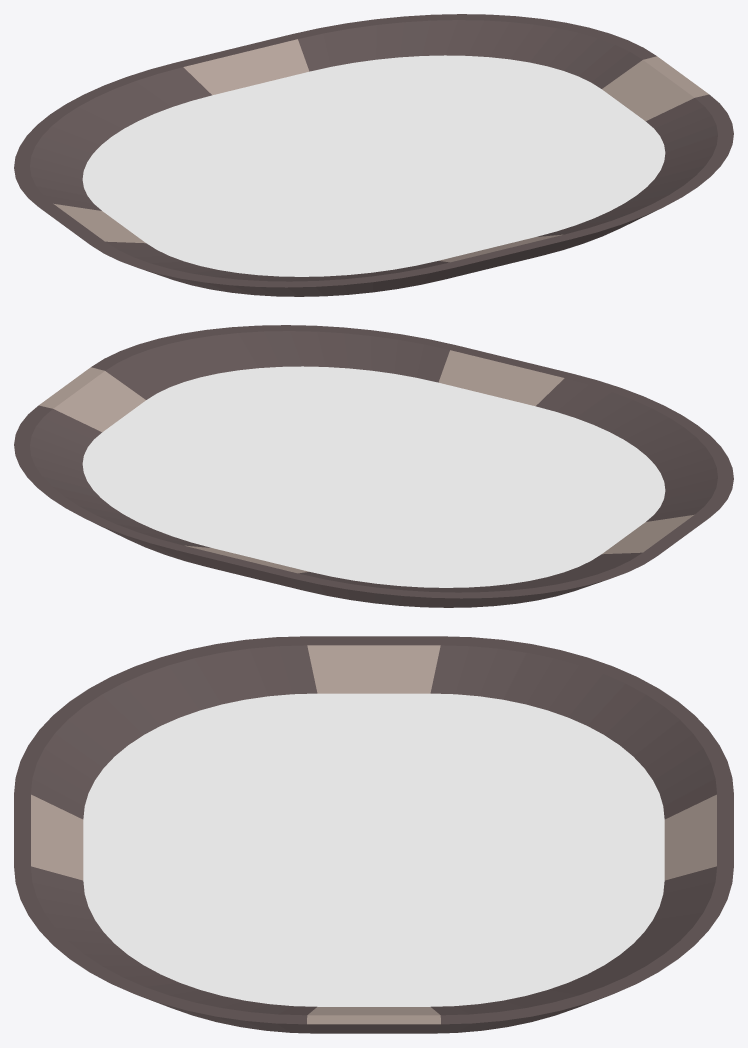
Rendered from Res01_Plate2.fbx.
The picture shows the model from 3 angles, top to bottom: view 1: azimuth 30°, elevation 25°; view 2: azimuth 150°, elevation 25°; view 3: azimuth 270°, elevation 25°; orthographic projection. The views are drawn at different scales.
Visible parts, largest first — view 1: Res01_Plate2; view 2: Res01_Plate2; view 3: Res01_Plate2.
Boxes of the visible parts, x1,y1,x2,y2 form: Res01_Plate2: [14, 14, 733, 296]; Res01_Plate2: [14, 325, 733, 607]; Res01_Plate2: [14, 636, 733, 1033].
Bounding box in the file's own units: 77.68 × 3.64 × 60.9.
